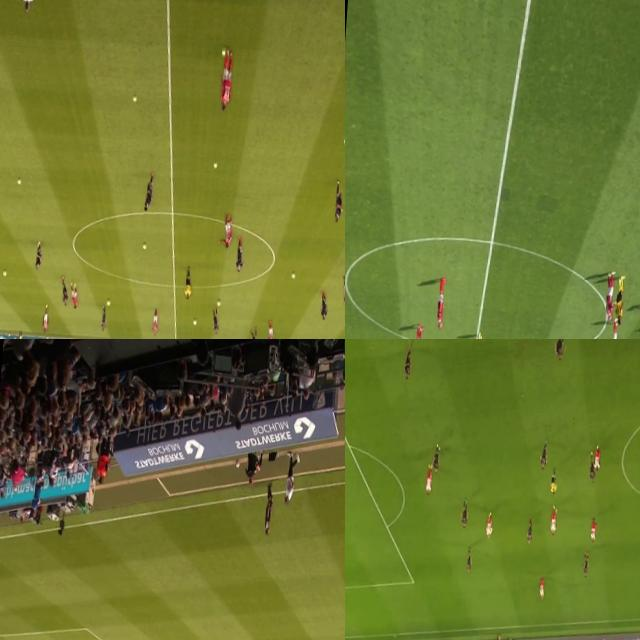ball: (220, 46, 227, 58), (190, 319, 197, 327), (291, 271, 296, 281), (132, 94, 137, 103), (141, 243, 147, 250), (216, 299, 220, 307), (212, 162, 216, 169), (2, 272, 6, 278), (342, 136, 345, 143), (17, 180, 21, 185), (106, 300, 110, 305)
player: (220, 48, 234, 112), (432, 279, 447, 332), (614, 275, 626, 329), (604, 274, 615, 324), (537, 440, 551, 476), (222, 210, 234, 250), (334, 182, 344, 222), (402, 347, 412, 382), (590, 512, 600, 546), (145, 173, 154, 210), (525, 516, 536, 546), (580, 549, 592, 576), (588, 452, 597, 488), (464, 544, 474, 574), (408, 322, 425, 339), (549, 504, 558, 536), (236, 239, 244, 273), (554, 339, 567, 359), (536, 575, 546, 601), (425, 464, 433, 496), (41, 304, 50, 332), (210, 308, 219, 336), (319, 290, 328, 318), (35, 240, 43, 270), (485, 512, 493, 542), (70, 283, 79, 309), (60, 276, 68, 304), (607, 322, 620, 339), (593, 444, 601, 469), (152, 309, 158, 335), (462, 502, 468, 528), (101, 308, 107, 330), (341, 274, 345, 307), (249, 326, 258, 339), (434, 446, 439, 469)
